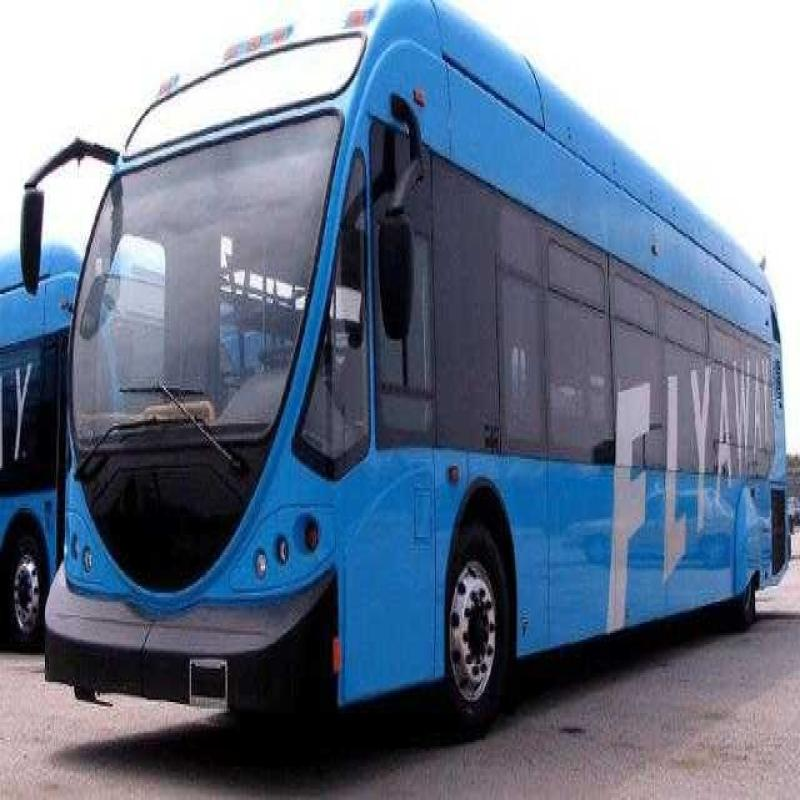bus: (48, 16, 795, 725)
